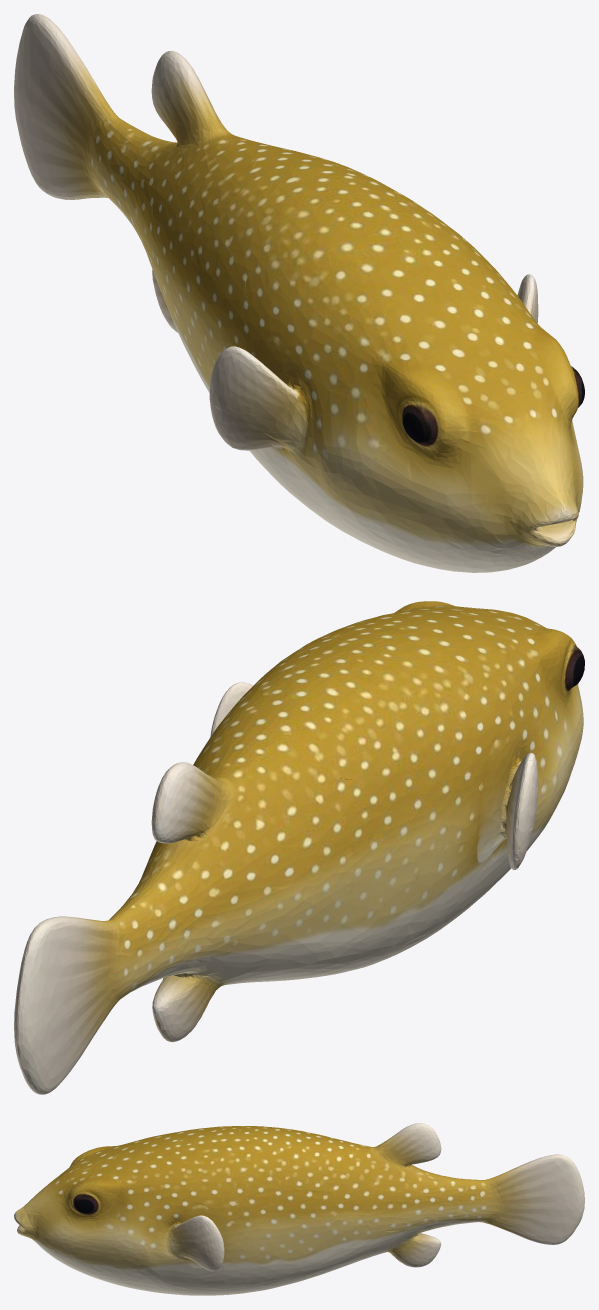
Rendered from meshy-puffer.glb.
3 views of the same model, one above another, from view 1: azimuth 30°, elevation 25°; view 2: azimuth 150°, elevation 25°; view 3: azimuth 270°, elevation 25° (orthographic). The views are drawn at different scales.
Visible parts, largest first — view 1: mesh_node; view 2: mesh_node; view 3: mesh_node.
Part boxes in pixels (x1,y1,x2,y2): mesh_node: (14, 14, 584, 572); mesh_node: (14, 601, 584, 1094); mesh_node: (14, 1123, 584, 1295).
Size of the model in its own units: 0.634 by 0.6134 by 1.9.
Materials: 1 (1 with a texture image).
